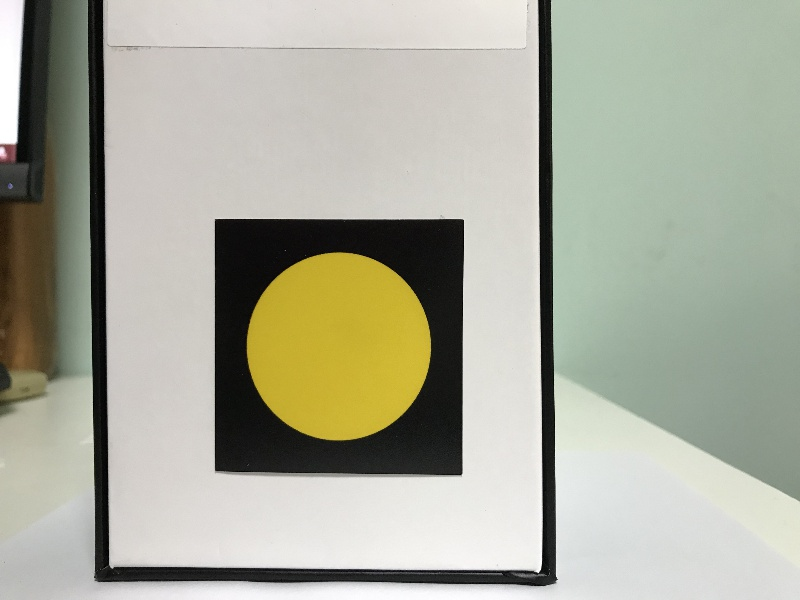Stop-5: (216, 222, 461, 472)
